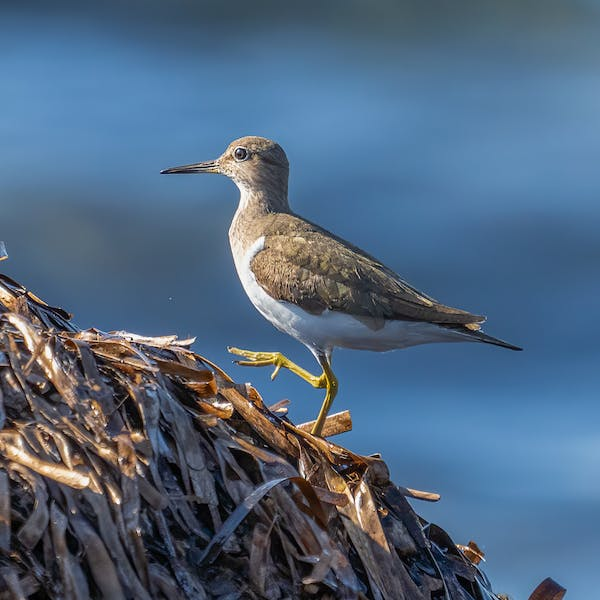Walking: (158, 122, 545, 465)
